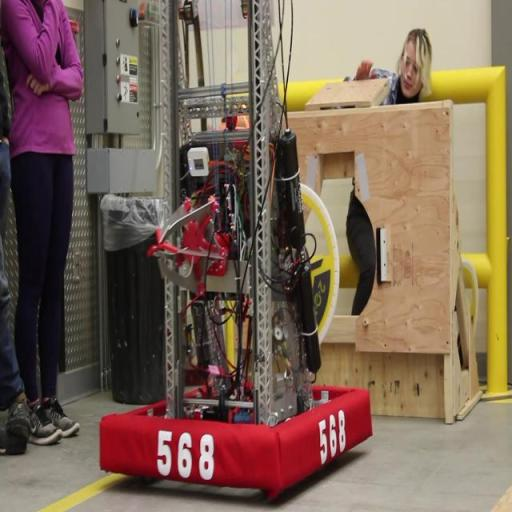robot: (79, 7, 407, 511)
